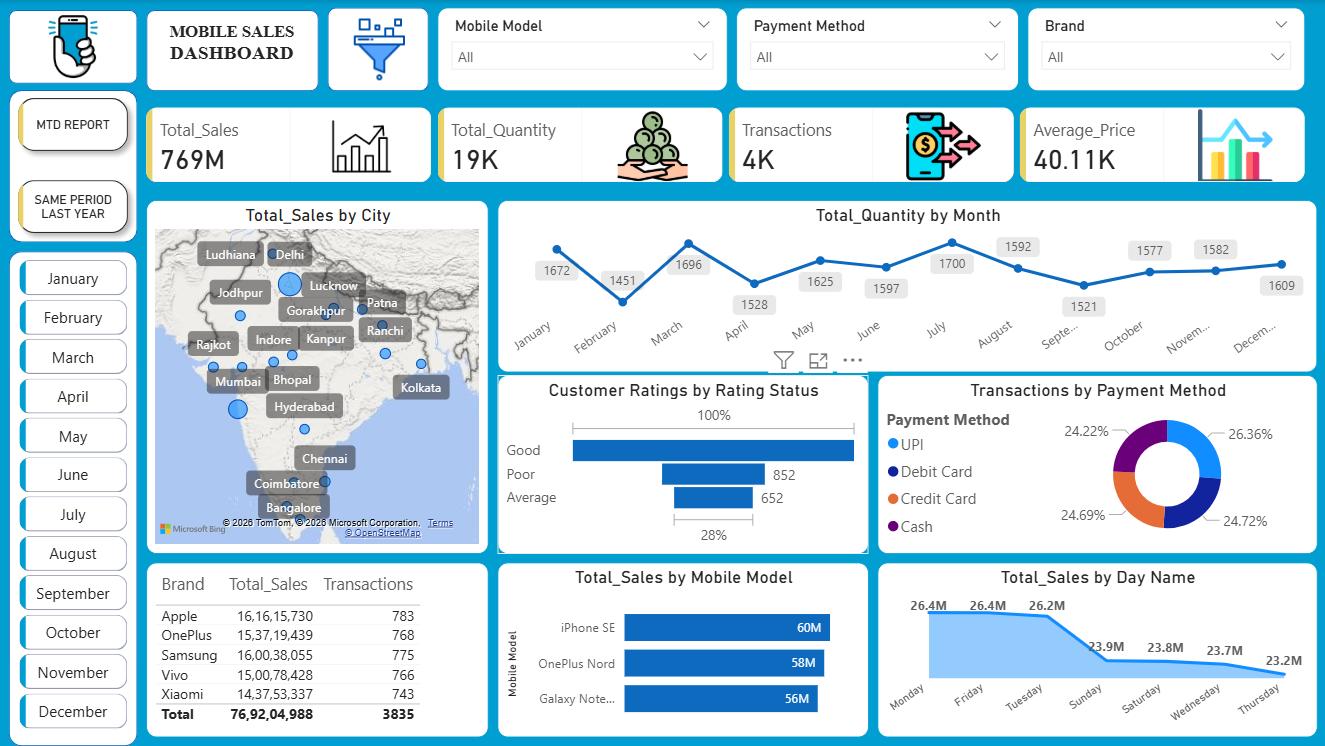

The page's visual inventory and layout, read from the dashboard file:
{"tool":"powerbi","page":{"name":"DASHBOARD","canvas":[1280,720],"ordinal":0},"visuals":[{"type":"shape","box":[8.4,9.7,124.3,71.2],"z":0},{"type":"image","box":[19.3,4.8,102.5,80.8],"z":1000},{"type":"shape","box":[8.4,86.9,124.3,147.2],"z":2000},{"type":"shape","box":[8.4,242.5,124.3,477.8],"z":3000},{"type":"advancedSlicerVisual","fields":{"Values":["Custom_Calendar.Date.Variation.Date Hierarchy.Month"]},"box":[8.4,250.9,124.3,460.9],"z":4000},{"type":"cardVisual","fields":{"Data":["Mobile Sales Data.Total_Sales","Mobile Sales Data.Total_Quantity","Mobile Sales Data.Transactions","Mobile Sales Data.Average_Price"]},"box":[124.3,86.9,1155.8,106.2],"z":5000},{"type":"slicer","fields":{"Values":["Mobile Sales Data.Mobile Model"]},"box":[422.3,7.2,279.9,80.8],"z":6000},{"type":"slicer","fields":{"Values":["Mobile Sales Data.Payment Method"]},"box":[710.6,7.2,272.7,80.8],"z":7000},{"type":"shape","box":[316.1,7.2,97.7,80.8],"z":8000},{"type":"slicer","fields":{"Values":["Mobile Sales Data.Brand"]},"box":[991.7,7.2,267.8,80.8],"z":9000},{"type":"image","box":[329.4,16.9,73.6,61.5],"z":10000},{"type":"shape","box":[141.2,9.7,166.5,78.4],"z":11000},{"type":"textbox","box":[149.6,16.9,148.4,61.5],"z":12000},{"type":"map","fields":{"Category":["Mobile Sales Data.City"],"Size":["Mobile Sales Data.Total_Sales"]},"box":[141.2,193,330.6,341.4],"z":13000},{"type":"lineChart","fields":{"Category":["Custom_Calendar.Date.Variation.Date Hierarchy.Month"],"Y":["Mobile Sales Data.Total_Quantity"]},"box":[480.2,193,791.4,166.5],"z":14000},{"type":"funnel","title":"Customer Ratings by Rating Status","fields":{"Y":["CountNonNull(Mobile Sales Data.Customer Ratings)"],"Category":["Mobile Sales Data.Rating Status"]},"box":[480.2,361.9,358.3,172.5],"z":15000},{"type":"donutChart","fields":{"Y":["Mobile Sales Data.Transactions"],"Category":["Mobile Sales Data.Payment Method"]},"box":[846.9,361.9,424.7,172.5],"z":16000},{"type":"clusteredBarChart","fields":{"Y":["Mobile Sales Data.Total_Sales"],"Category":["Mobile Sales Data.Mobile Model"]},"box":[480.3,543.4,358.1,168.8],"z":17000},{"type":"areaChart","fields":{"Y":["Mobile Sales Data.Total_Sales"],"Category":["Custom_Calendar.Day Name"]},"box":[846.9,542.9,424.7,168.9],"z":18000},{"type":"tableEx","fields":{"Values":["Mobile Sales Data.Brand","Mobile Sales Data.Total_Sales","Mobile Sales Data.Transactions"]},"box":[141.2,542.9,330.6,168.9],"z":19000},{"type":"pageNavigator","box":[8.4,85.7,124.3,148.4],"z":20000}]}

Visuals, with their boxes in screenshot pixels (x1, y1, x2, y2), scaled from the page's 1280x720 canvas onto the 1325x746 screenshot:
shape: (left=9, top=10, right=137, bottom=84)
image: (left=20, top=5, right=126, bottom=89)
shape: (left=9, top=90, right=137, bottom=243)
shape: (left=9, top=251, right=137, bottom=745)
advancedSlicerVisual - Custom_Calendar.Date.Variation.Date Hierarchy.Month: (left=9, top=260, right=137, bottom=738)
cardVisual - Mobile Sales Data.Total_Sales x Mobile Sales Data.Total_Quantity: (left=129, top=90, right=1324, bottom=200)
slicer - Mobile Sales Data.Mobile Model: (left=437, top=7, right=727, bottom=91)
slicer - Mobile Sales Data.Payment Method: (left=736, top=7, right=1018, bottom=91)
shape: (left=327, top=7, right=428, bottom=91)
slicer - Mobile Sales Data.Brand: (left=1027, top=7, right=1304, bottom=91)
image: (left=341, top=18, right=417, bottom=81)
shape: (left=146, top=10, right=319, bottom=91)
textbox: (left=155, top=18, right=308, bottom=81)
map - Mobile Sales Data.City x Mobile Sales Data.Total_Sales: (left=146, top=200, right=488, bottom=554)
lineChart - Custom_Calendar.Date.Variation.Date Hierarchy.Month x Mobile Sales Data.Total_Quantity: (left=497, top=200, right=1316, bottom=372)
"Customer Ratings by Rating Status" funnel: (left=497, top=375, right=868, bottom=554)
donutChart - Mobile Sales Data.Transactions x Mobile Sales Data.Payment Method: (left=877, top=375, right=1316, bottom=554)
clusteredBarChart - Mobile Sales Data.Total_Sales x Mobile Sales Data.Mobile Model: (left=497, top=563, right=868, bottom=738)
areaChart - Mobile Sales Data.Total_Sales x Custom_Calendar.Day Name: (left=877, top=563, right=1316, bottom=738)
tableEx - Mobile Sales Data.Brand x Mobile Sales Data.Total_Sales: (left=146, top=563, right=488, bottom=738)
pageNavigator: (left=9, top=89, right=137, bottom=243)
